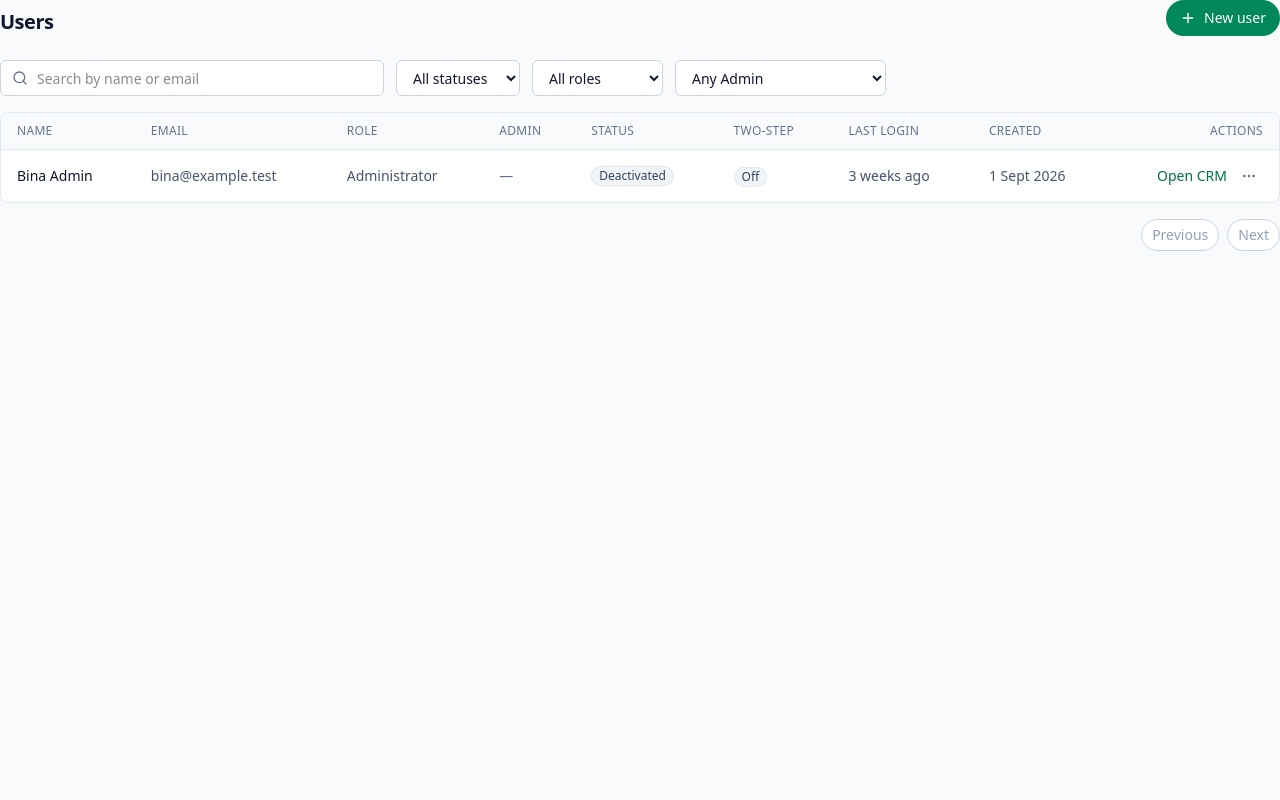
pseudonymising an administrator's account › is not offered for a deactivated administrator
The width and height of the screenshot is (1280, 800).
Click the button "Bina Admin": x=55, y=176 x1=17 y1=166 x2=93 y2=186
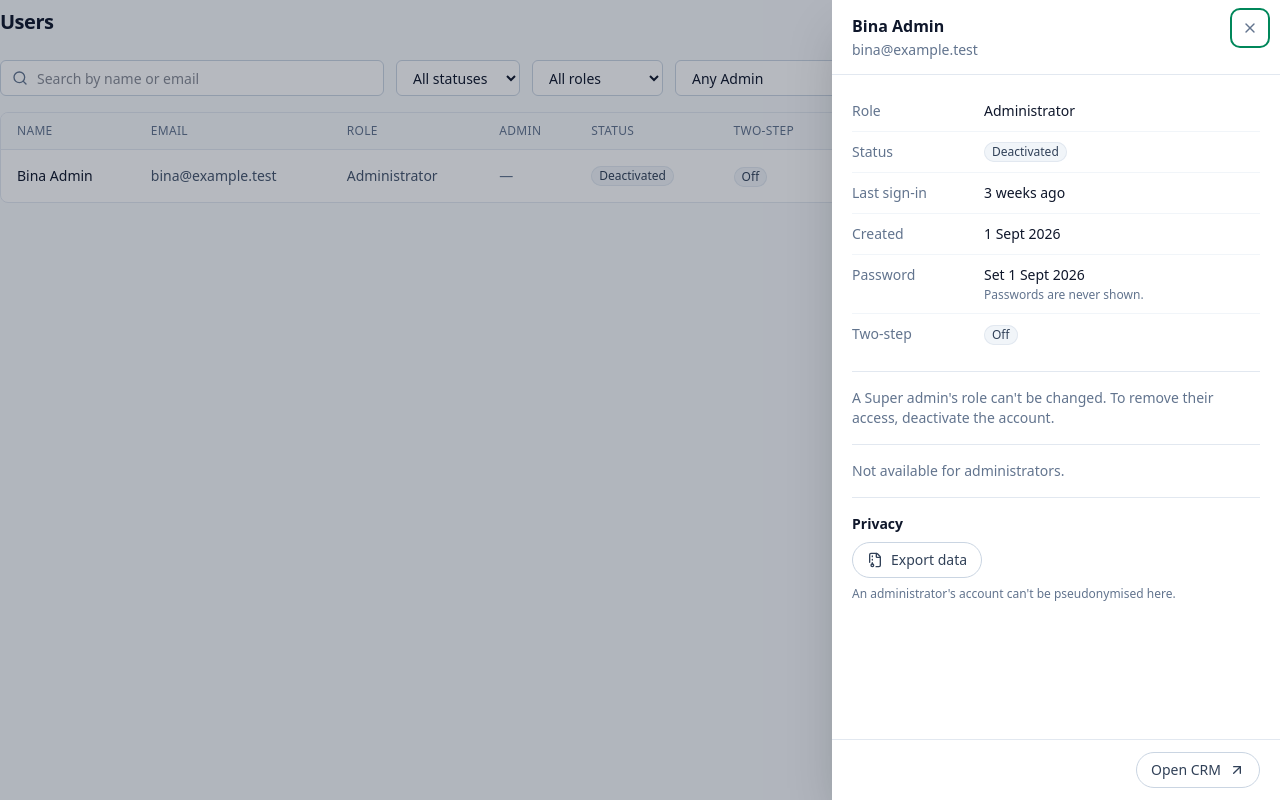
Check: the button "Export data" is shown, box x1=852 y1=542 x2=982 y2=578
Check: the dialog "Bina Admin" shows "An administrator's account can't be pseudonymised here.", box x1=852 y1=585 x2=1176 y2=602
